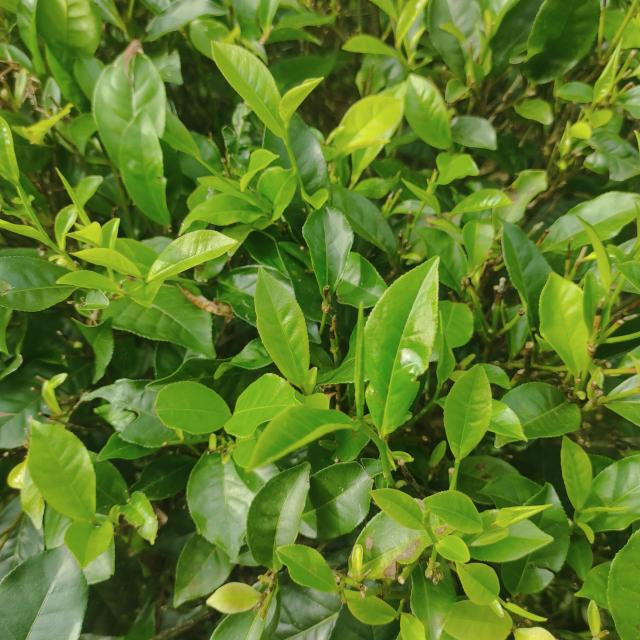unopened_leaf: (347, 296, 373, 427), (51, 162, 92, 227), (13, 186, 51, 238), (582, 496, 636, 519)
